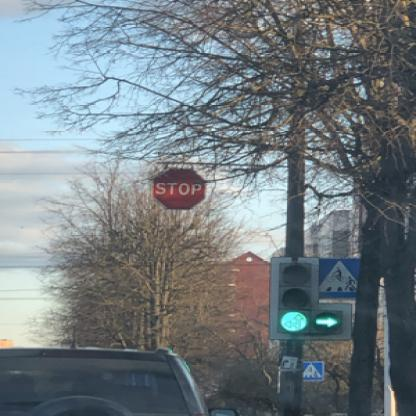crosswalk: (318, 256, 356, 295), (300, 360, 323, 380)
stop: (150, 166, 205, 209)
trafficlight: (276, 261, 344, 334)
